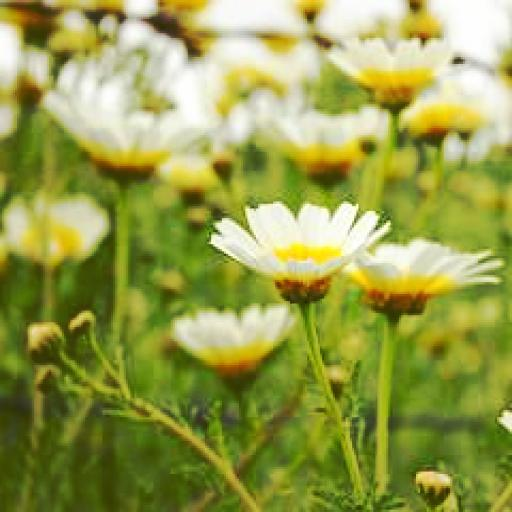daisy: (56, 88, 202, 178), (222, 199, 369, 287), (354, 237, 487, 322), (337, 36, 452, 100), (177, 310, 288, 374), (271, 130, 382, 185)
